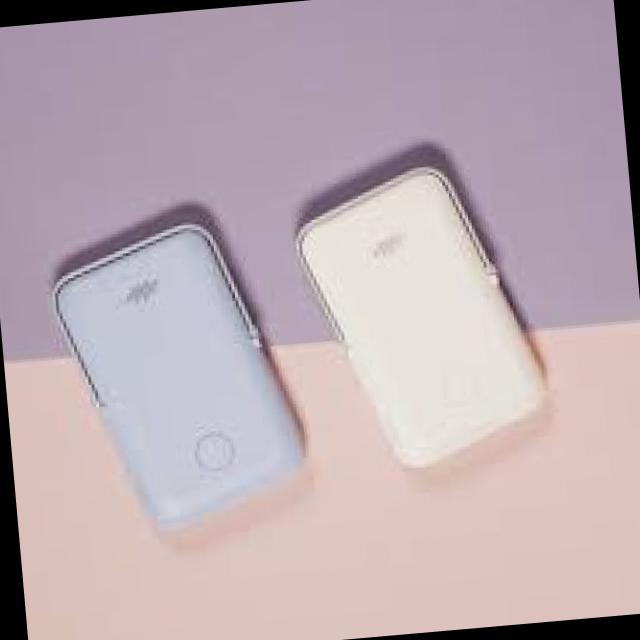power_bank: (287, 152, 560, 482), (41, 208, 314, 536)
